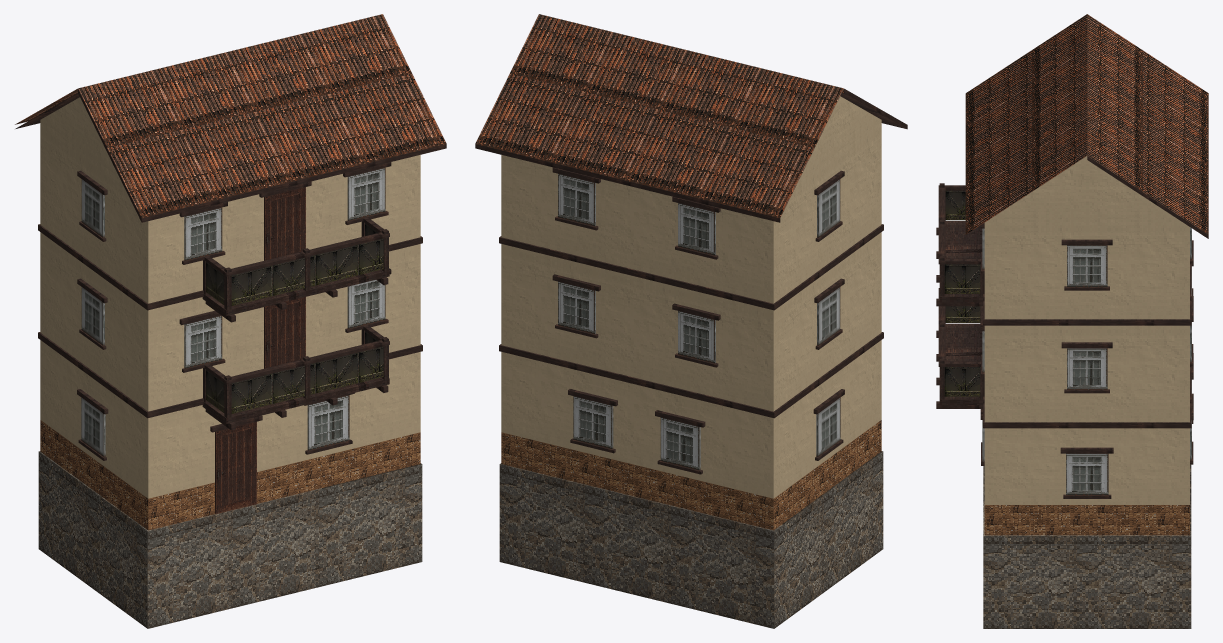
File: 18_andina3p_crema_doble_balcon.glb
3 renders of one model, left to right at view 1: azimuth 30°, elevation 25°; view 2: azimuth 150°, elevation 25°; view 3: azimuth 270°, elevation 25°, orthographic. The views are drawn at different scales.
Visible parts, largest first — view 1: 18_andina3p_crema_doble_balcon; view 2: 18_andina3p_crema_doble_balcon; view 3: 18_andina3p_crema_doble_balcon.
Boxes of the visible parts, bbox=[...] form: 18_andina3p_crema_doble_balcon: bbox=[15, 14, 446, 628]; 18_andina3p_crema_doble_balcon: bbox=[475, 14, 907, 628]; 18_andina3p_crema_doble_balcon: bbox=[936, 14, 1208, 628].
Size of the model in its own units: 7.84 by 12.39 by 6.37.
8 materials, 8 textured.
